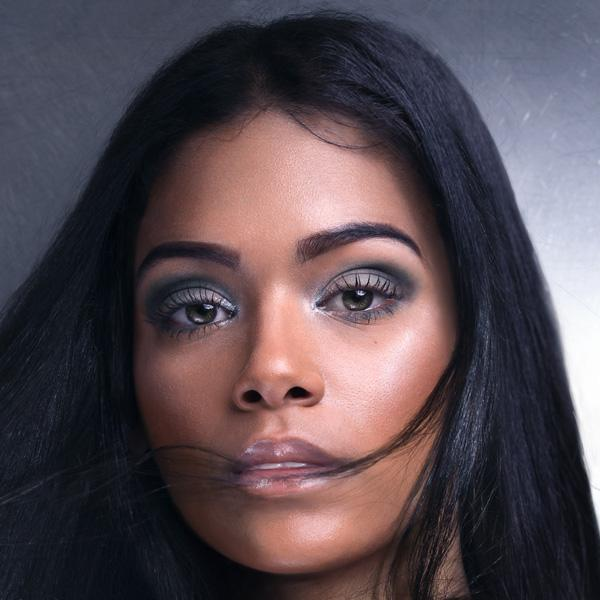Eyes: (306, 263, 412, 332), (144, 278, 244, 349)
